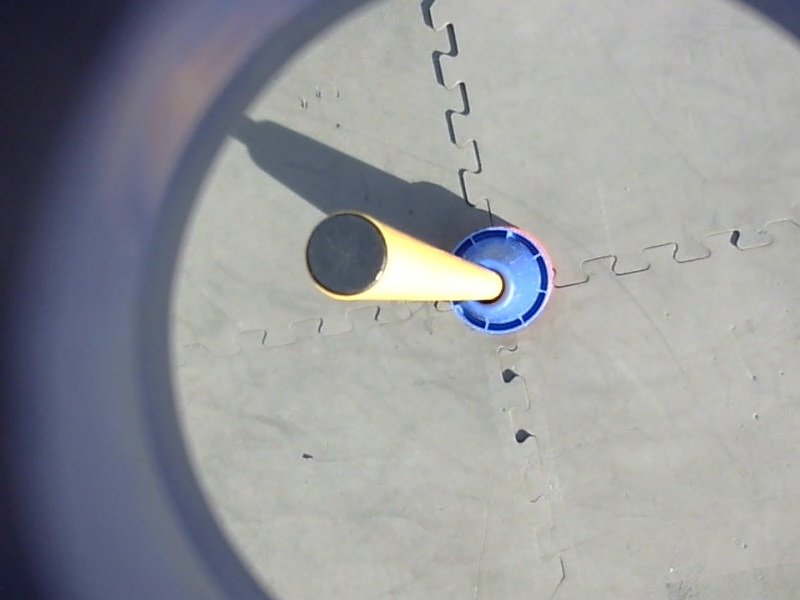tip: (295, 209, 397, 303)
